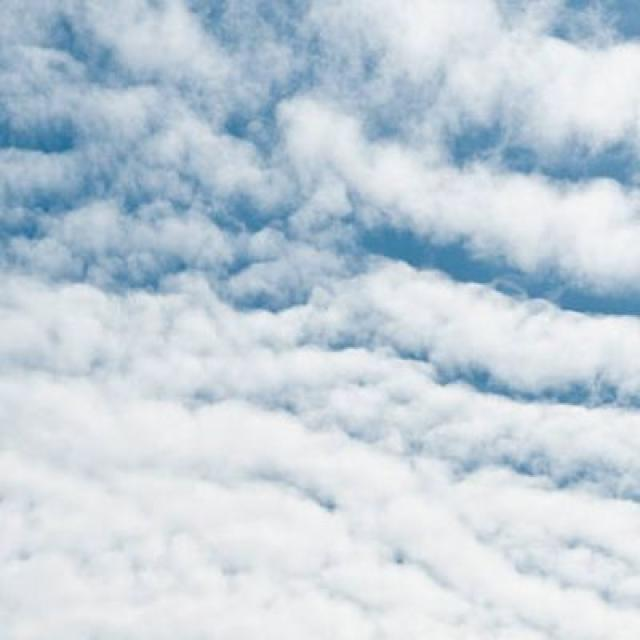As: (1, 38, 640, 637)
